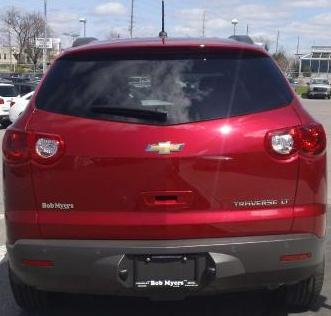back_view: (0, 119, 331, 296)
backlight: (259, 117, 330, 165)
